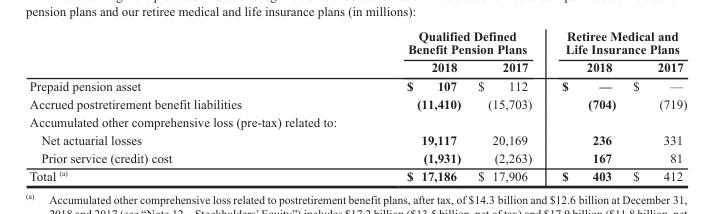table: (28, 28, 686, 182)
table column: (28, 28, 323, 182), (323, 28, 468, 182), (468, 28, 546, 182), (546, 28, 623, 182), (623, 28, 686, 182)
table column header: (28, 28, 686, 76)
table projected row header: (28, 112, 686, 130)
table row: (28, 28, 686, 58), (28, 58, 686, 76), (28, 76, 686, 94), (28, 94, 686, 112), (28, 112, 686, 130), (28, 130, 686, 148), (28, 148, 686, 166), (28, 166, 686, 182)
table spanning cell: (323, 28, 546, 58), (546, 28, 686, 58)
